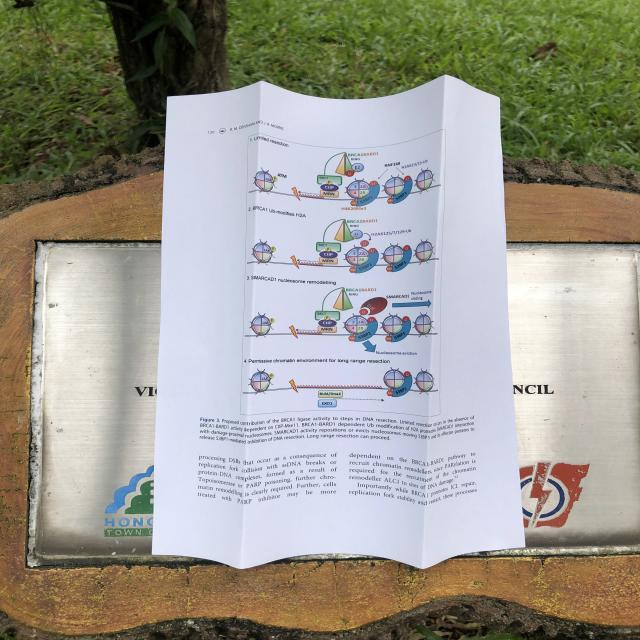kertas: (136, 74, 526, 577)
